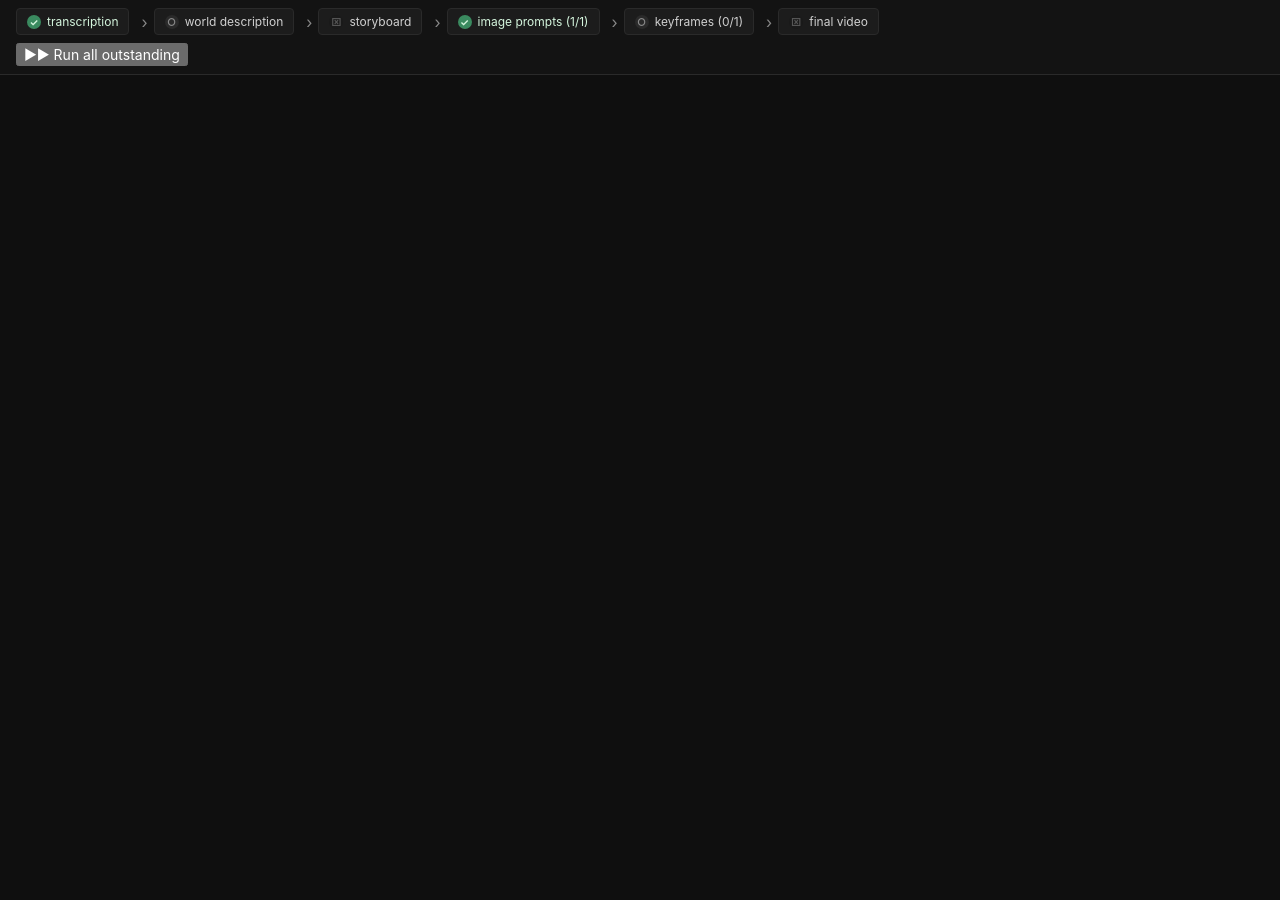
Test case: PipelinePanel › visual-language setup reports saved blocked workflow without raw HTTP error text
This screenshot has width=1280, height=900.
Click the button "○ world description" at (224, 22), box [154, 8, 294, 35]
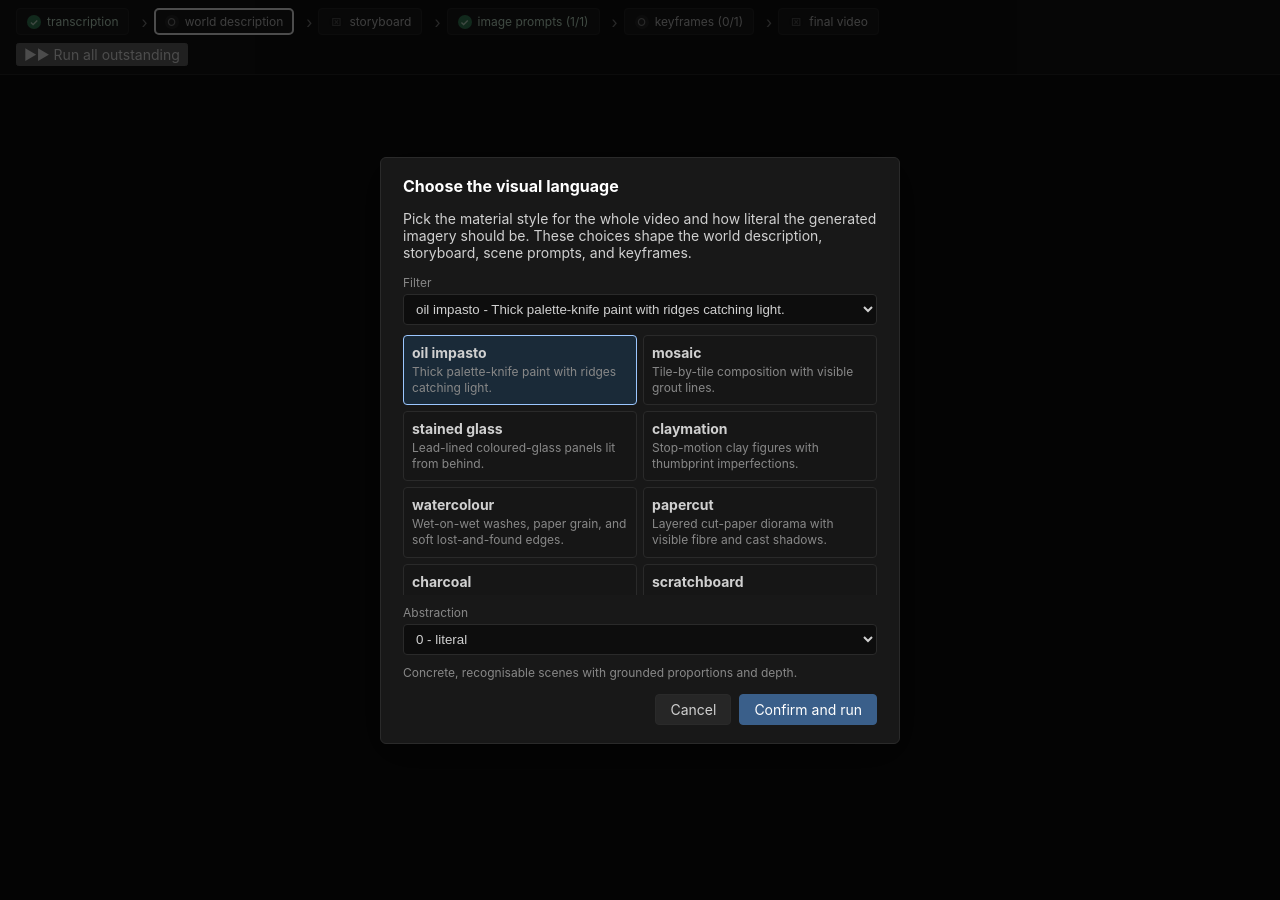
Click the button "Confirm and run" at (808, 709), box [739, 694, 877, 724]
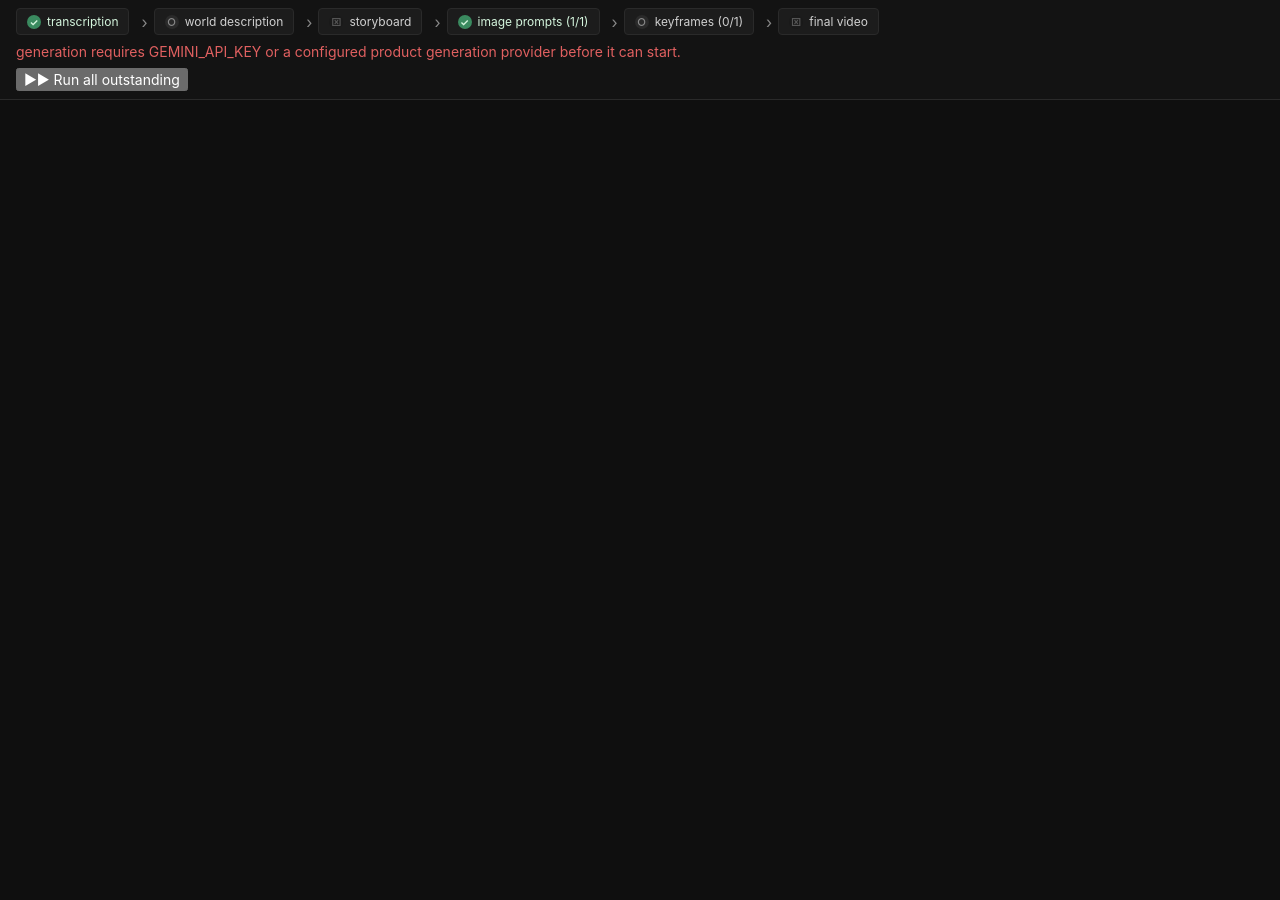
Now the text "generation requires GEMINI_API_KEY" is shown, box [16, 43, 681, 60]
Now the dialog is gone
